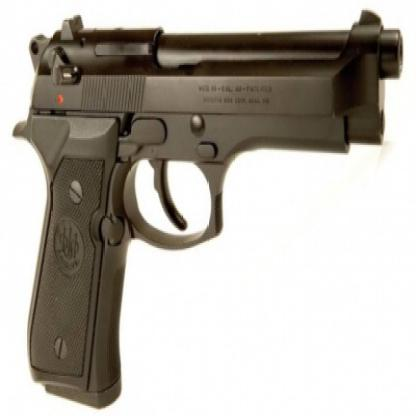Guns: (8, 5, 407, 414)
